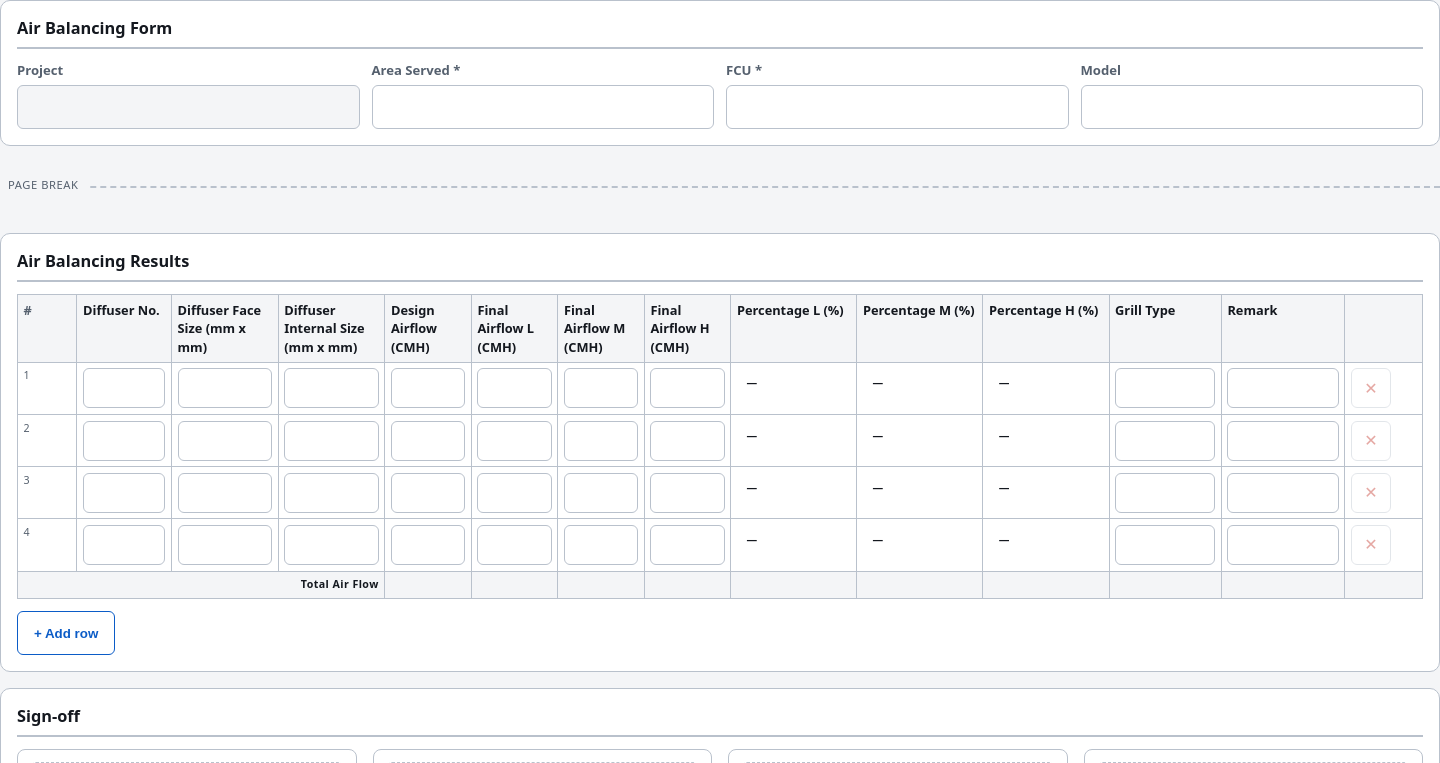
CHW FCU Air Balancing template › computes a row's percentage as the engineer types
This screenshot has width=1440, height=763.
Type "1120" into the number field named "Design Airflow row 1" at (428, 388), box [391,368,465,408]
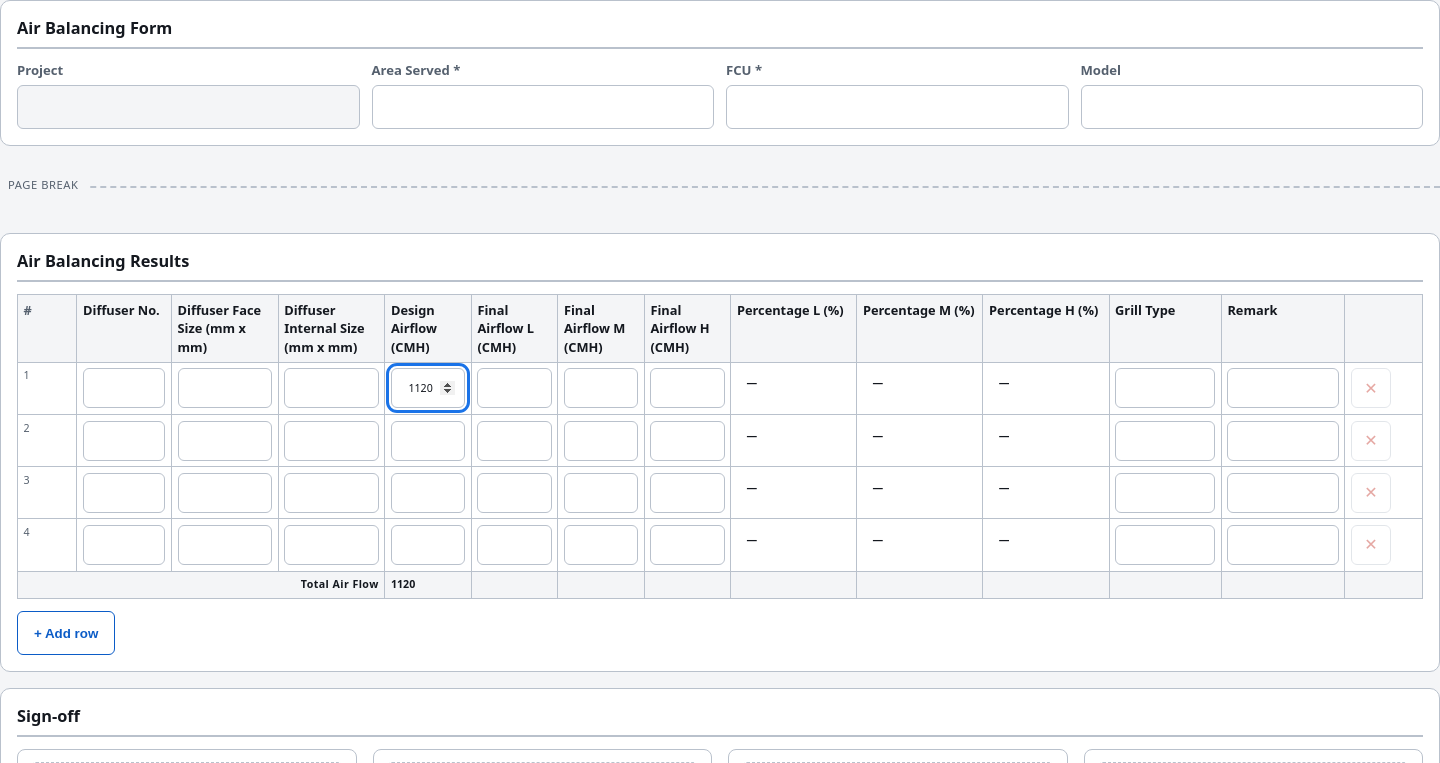
Type "1154" into the number field named "Final Airflow H row 1" at (688, 388), box [650,368,725,408]
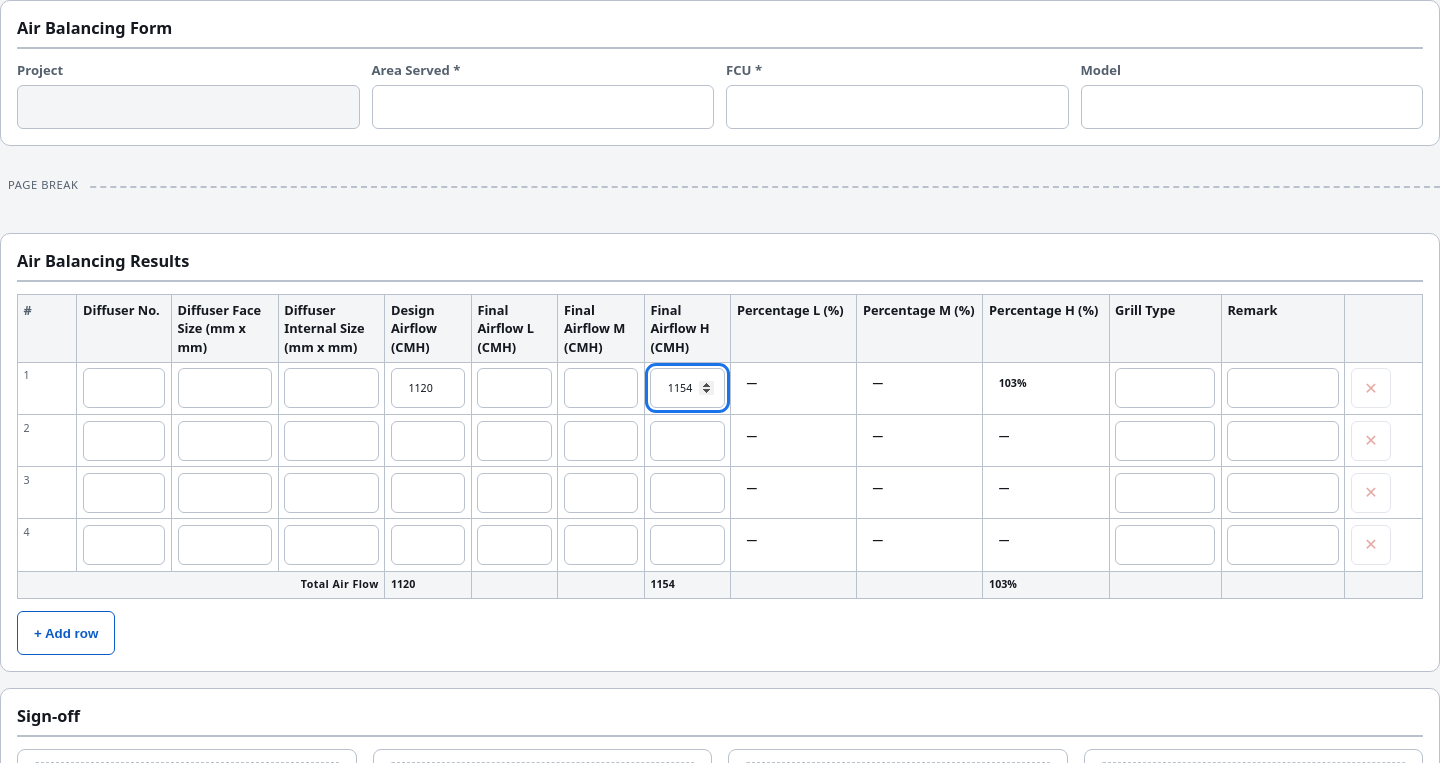
Expected: the text named "Percentage L row 1" reads "—", [746,376,757,390]
Now the text named "Percentage H row 1" reads "103%", box [999,376,1026,390]
